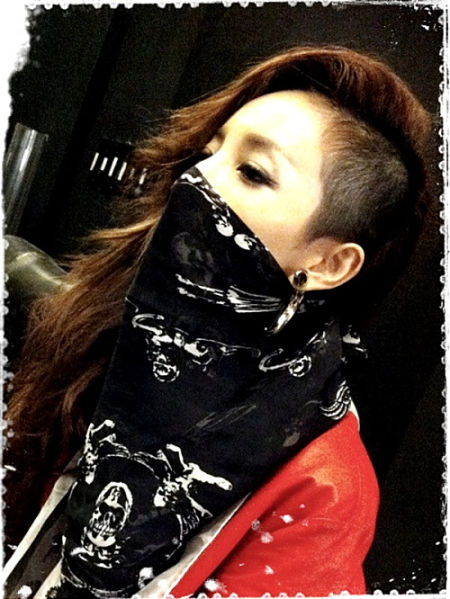face_mask: (178, 91, 329, 294)
